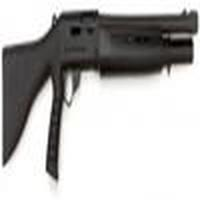gun: (1, 12, 199, 170)
